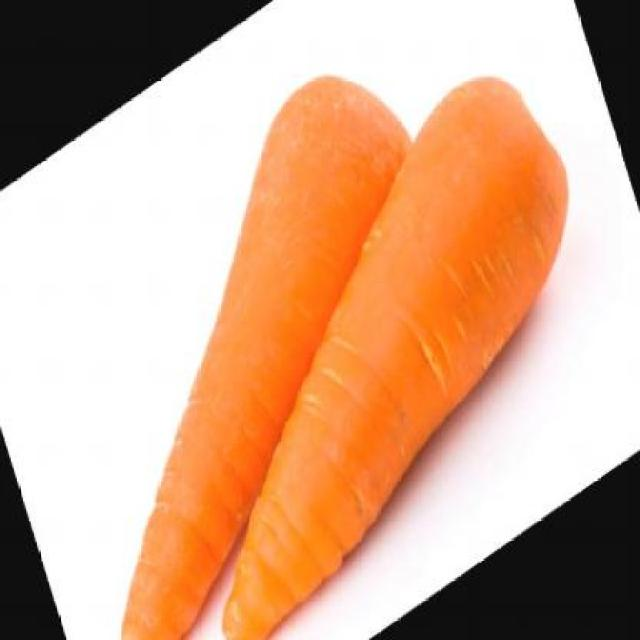carrot: (124, 39, 634, 638), (11, 31, 503, 638)
